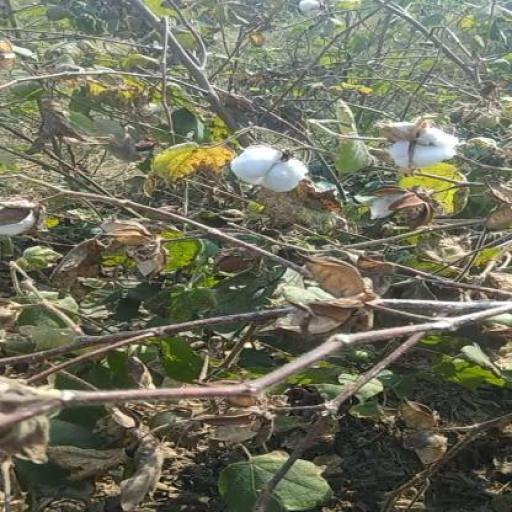cotton_ready: (188, 137, 331, 208), (350, 104, 462, 183)
